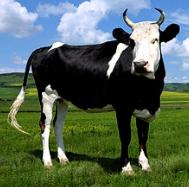cow: (10, 21, 179, 174)
